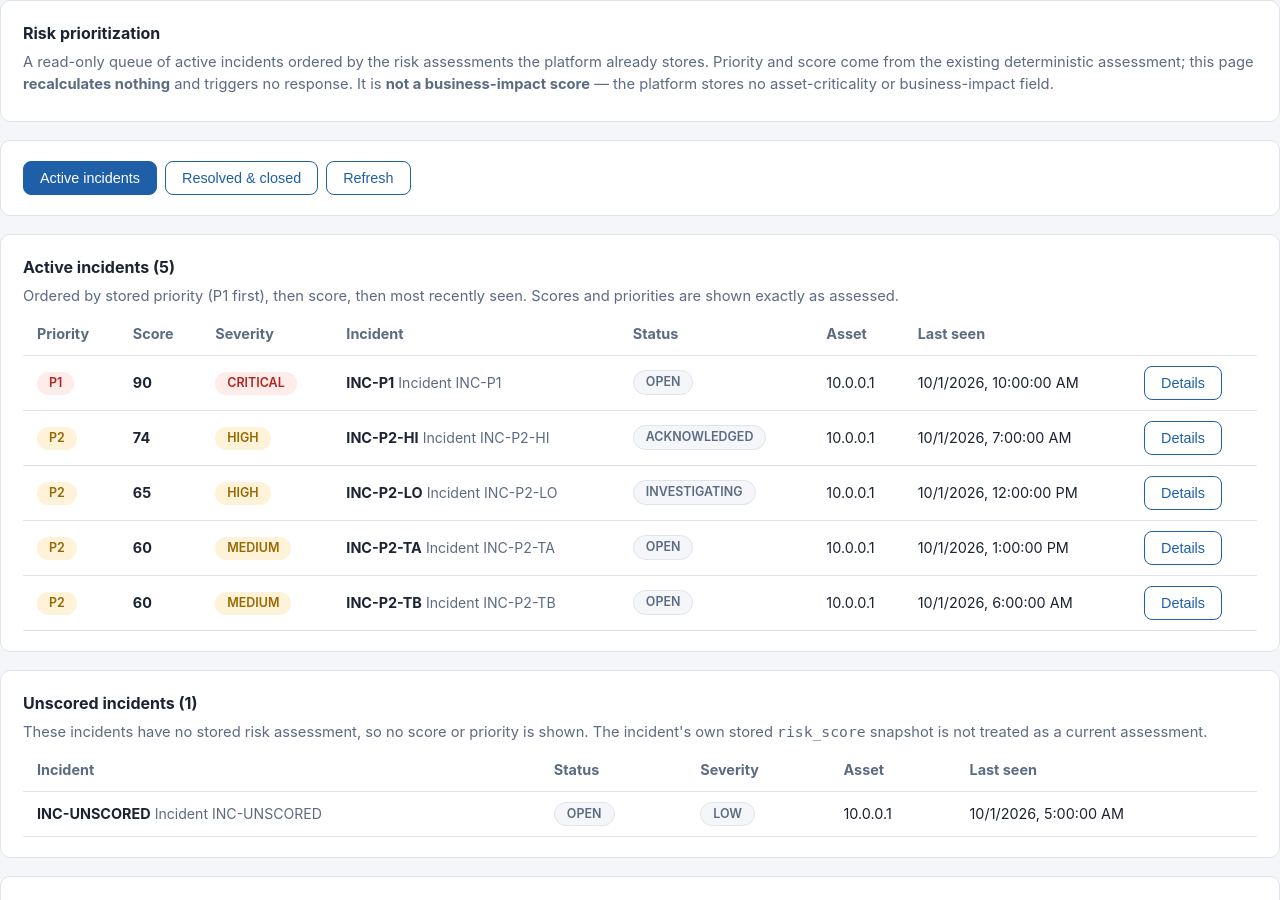
Risk prioritization (Phase 3, Step 39) › shows resolved and closed incidents in the separate view
The image size is (1280, 900).
Click the button "Resolved & closed". click: (242, 178)
box: top-left (165, 161), bottom-right (318, 195)
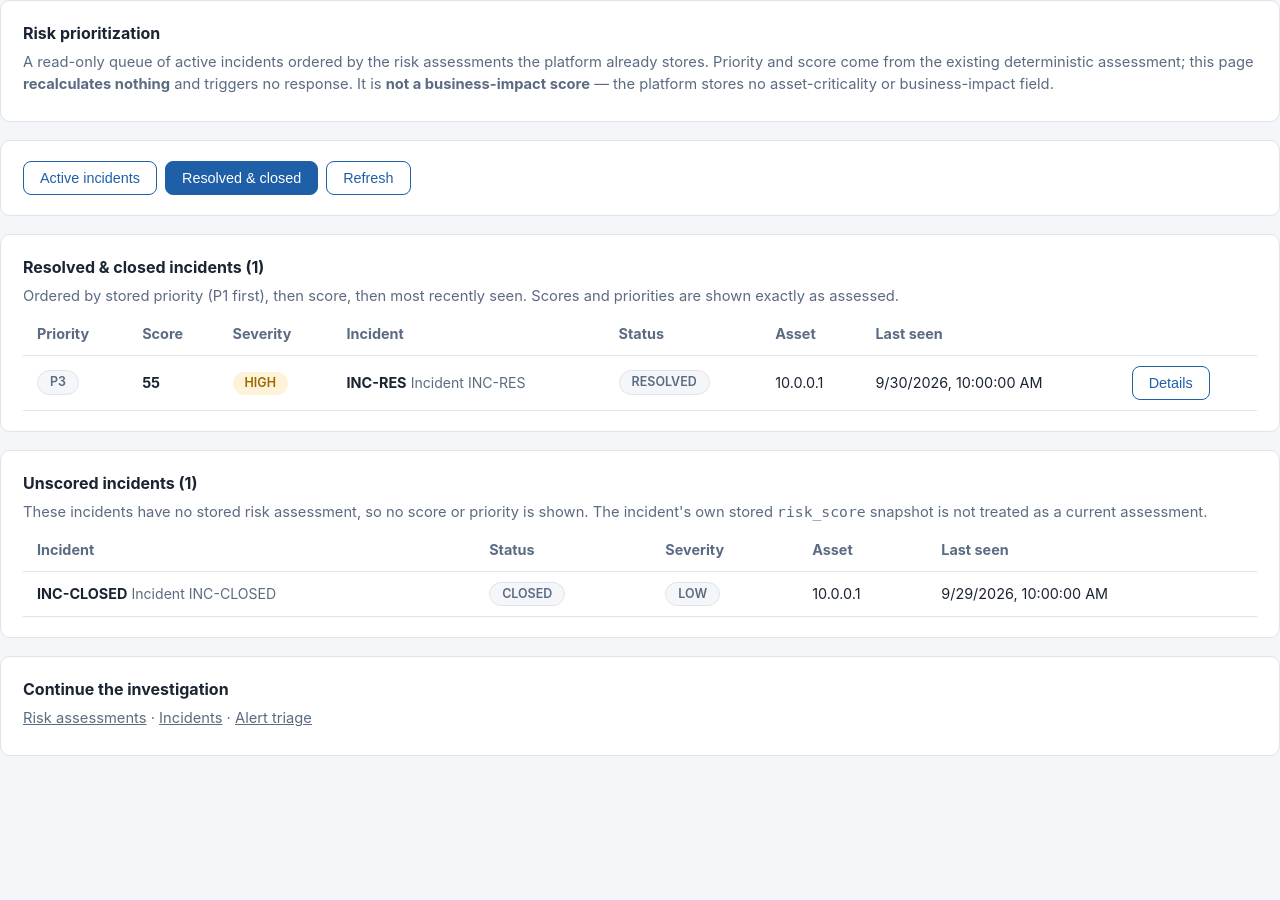
Now the text "INC-RES" is shown, box top-left (346, 374), bottom-right (406, 391)
Now the text "INC-P1" is gone
Now the text "P3" is shown, box top-left (37, 370), bottom-right (79, 395)
